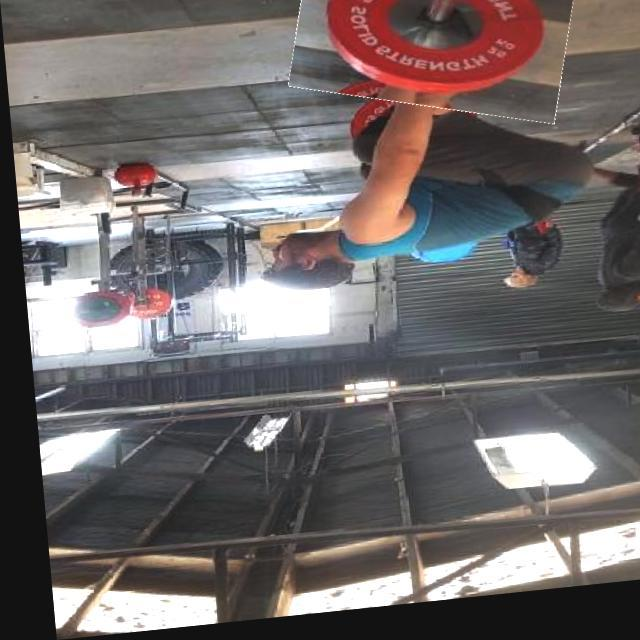barbell: (285, 1, 580, 143)
